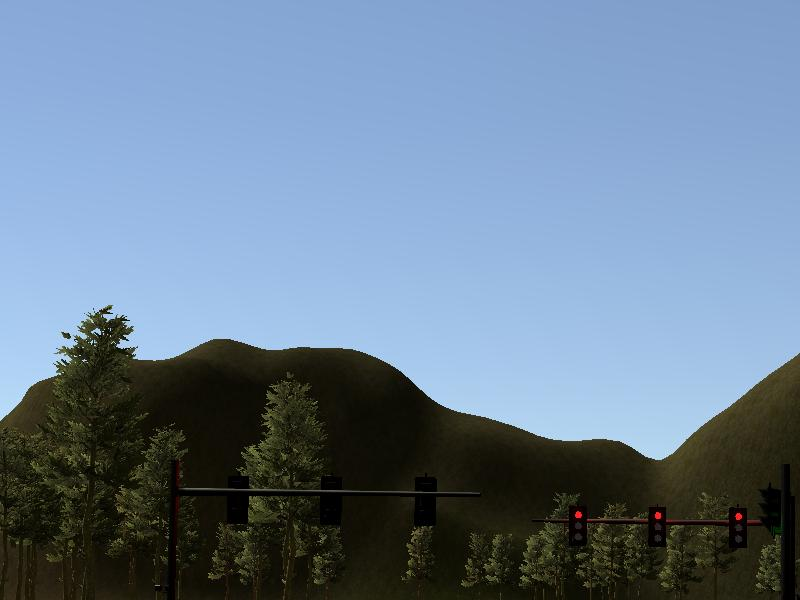Red: (647, 508, 666, 546), (730, 507, 748, 547), (570, 506, 587, 547)
